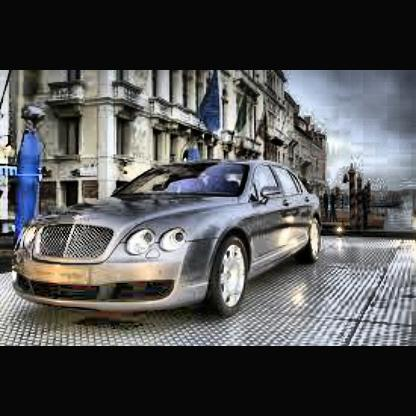Bentley Continental Flying Spur Sedan 2007: (15, 158, 334, 319)
